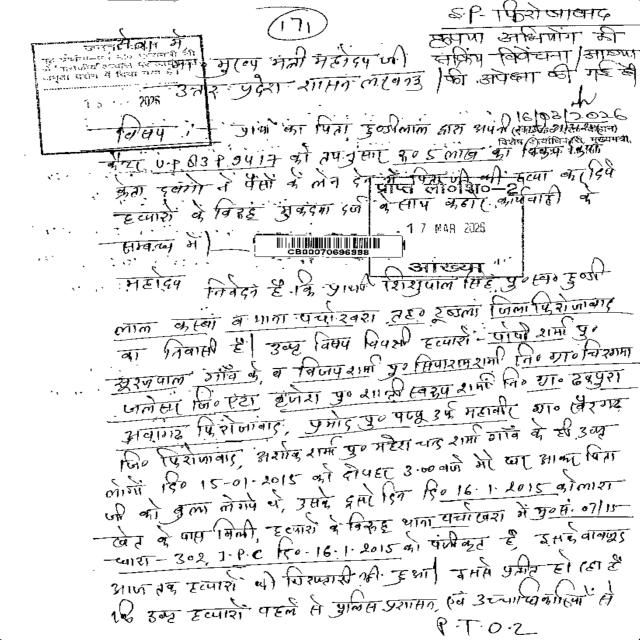antritgovtstamp: (365, 173, 530, 280)
barcode: (253, 230, 407, 263)
jantadarsan: (24, 38, 216, 151)
